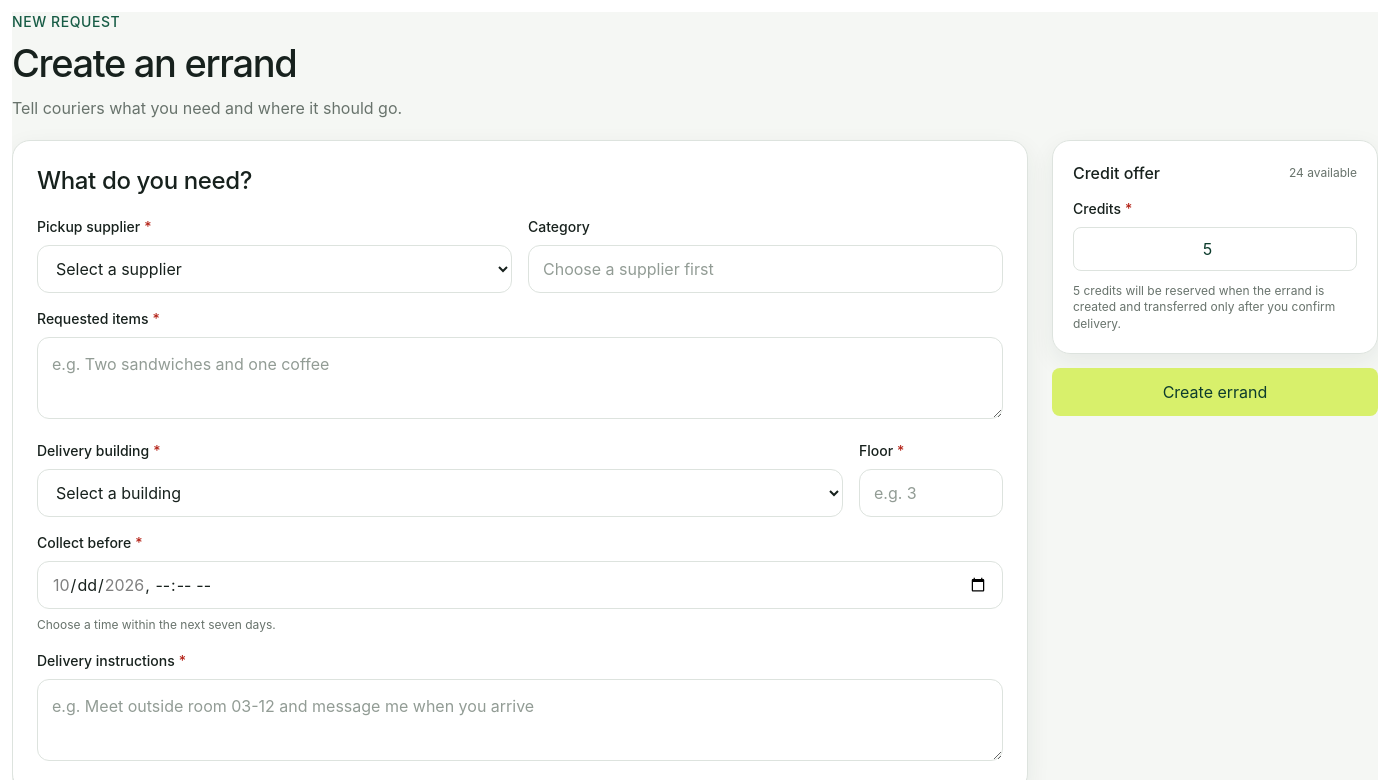
Test: CreateErrandPage › updates the read-only category when the supplier changes
Select "Central Library Print Centre" in the dropdown labelled "Pickup supplier*" at (274, 268), box [37,244,512,292]
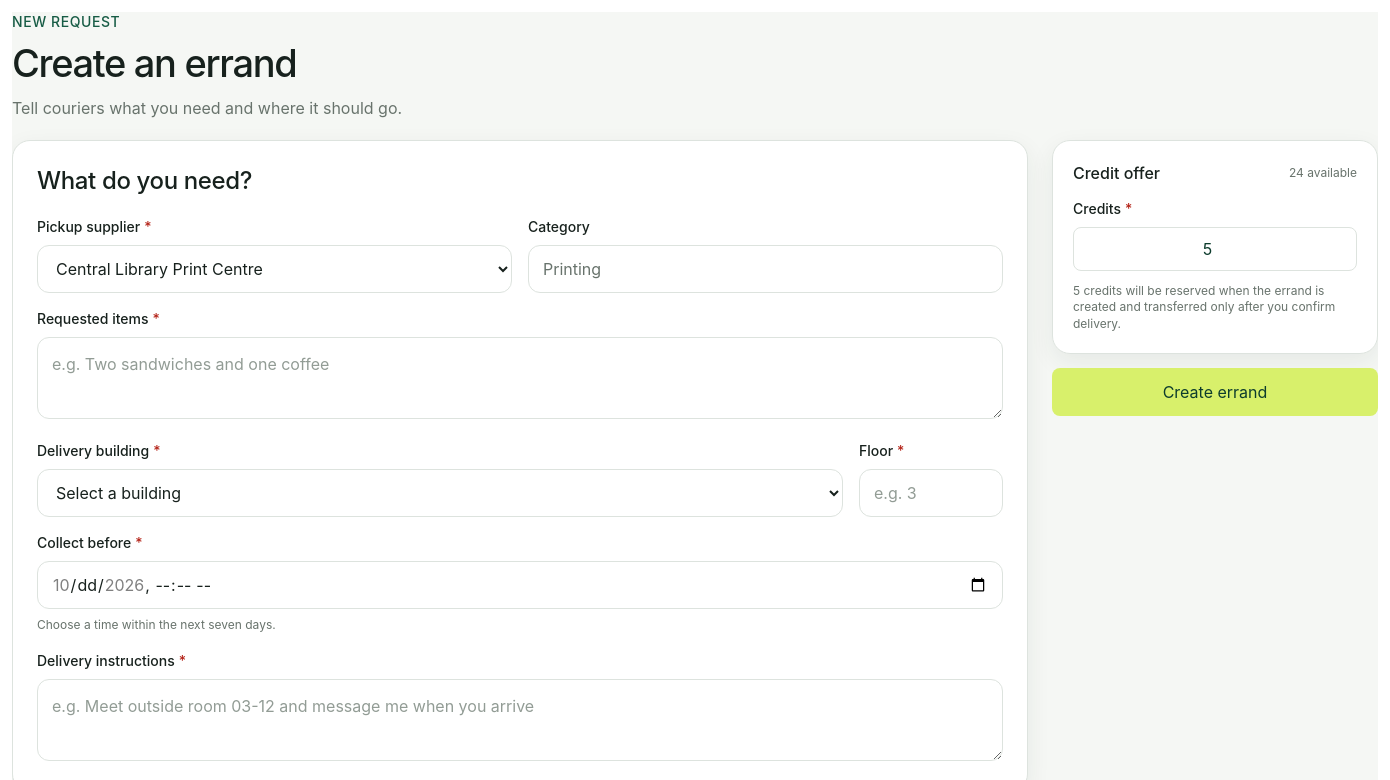
expect the field labelled "Category" holds "Printing": met, box [528,244,1003,292]
